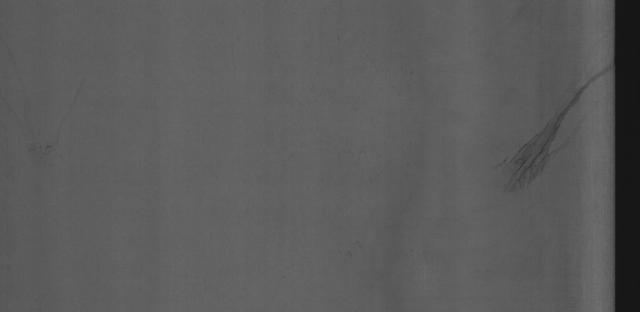water_spot: (484, 49, 615, 216)
